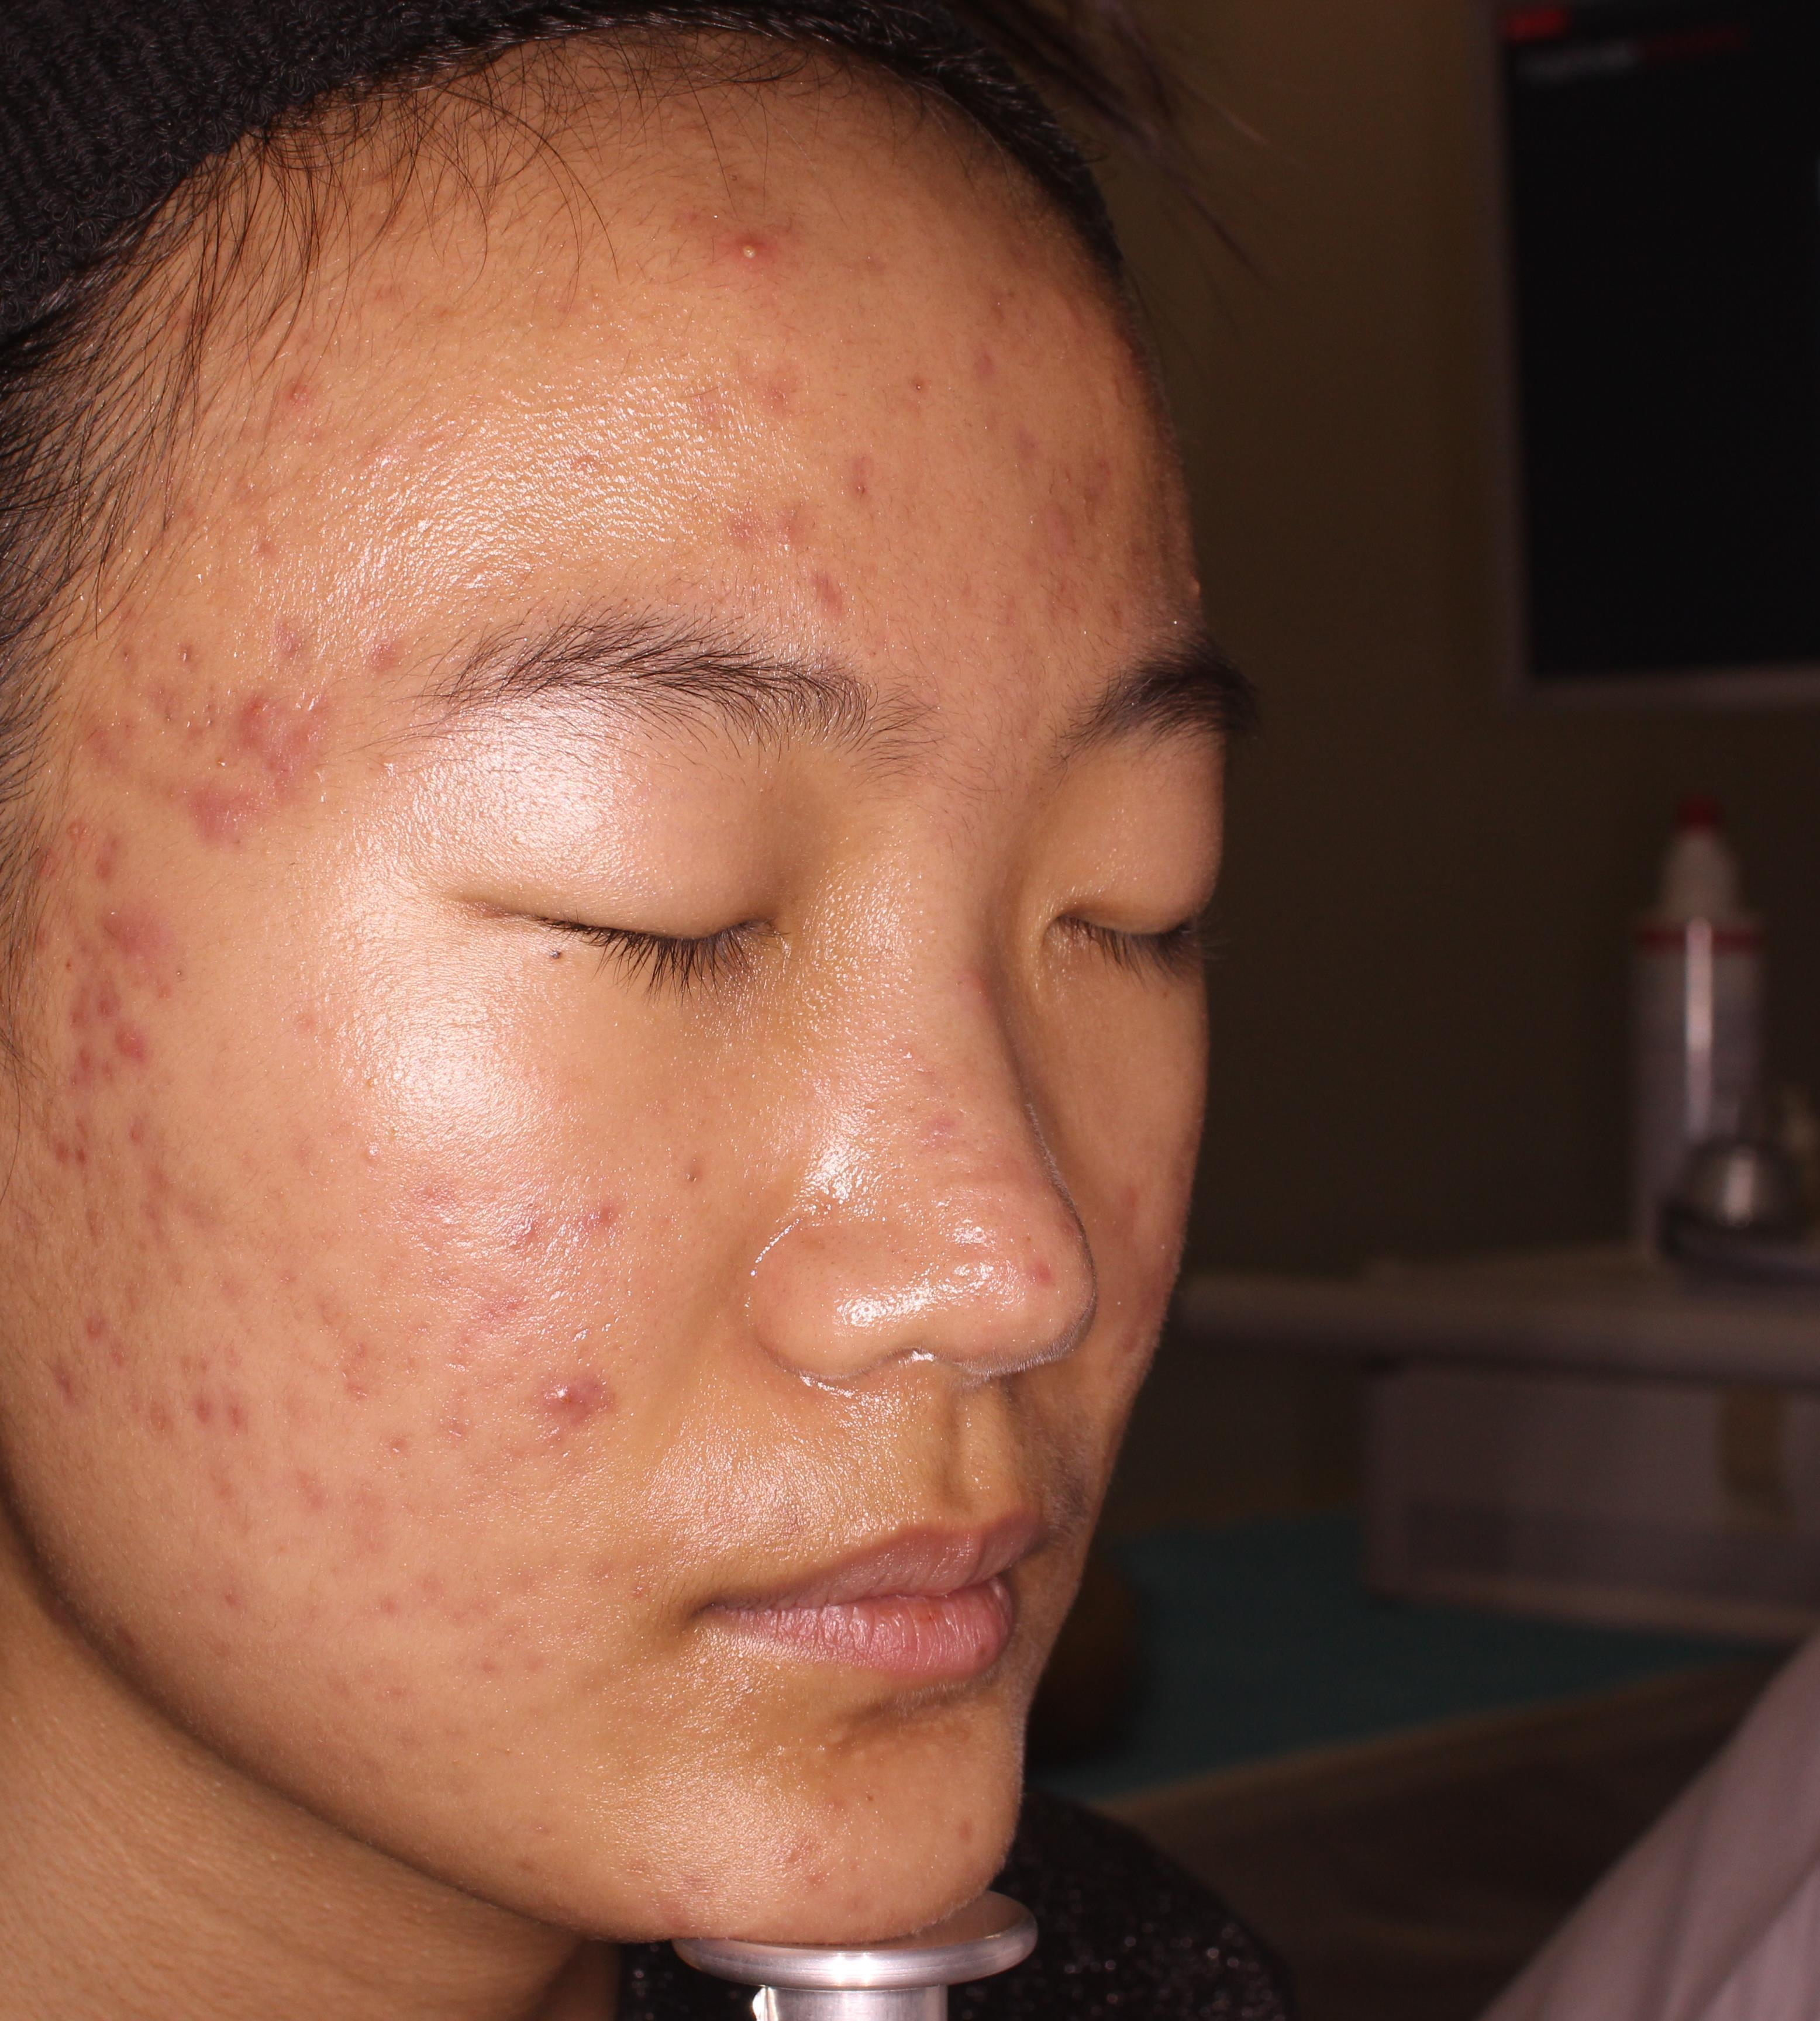fore: (768, 506, 880, 648), (225, 662, 320, 801), (5, 1064, 109, 1190), (54, 1285, 172, 1392), (181, 1352, 306, 1442), (132, 657, 225, 760), (314, 1312, 427, 1396), (516, 1329, 589, 1456), (91, 904, 190, 994), (69, 1003, 199, 1069), (32, 1315, 95, 1424), (86, 1096, 163, 1173), (719, 348, 791, 425), (167, 783, 260, 841), (63, 948, 144, 1015), (643, 1835, 710, 1916), (54, 697, 132, 766), (141, 1155, 199, 1231), (83, 827, 141, 895), (720, 223, 780, 284), (571, 1176, 620, 1236)
